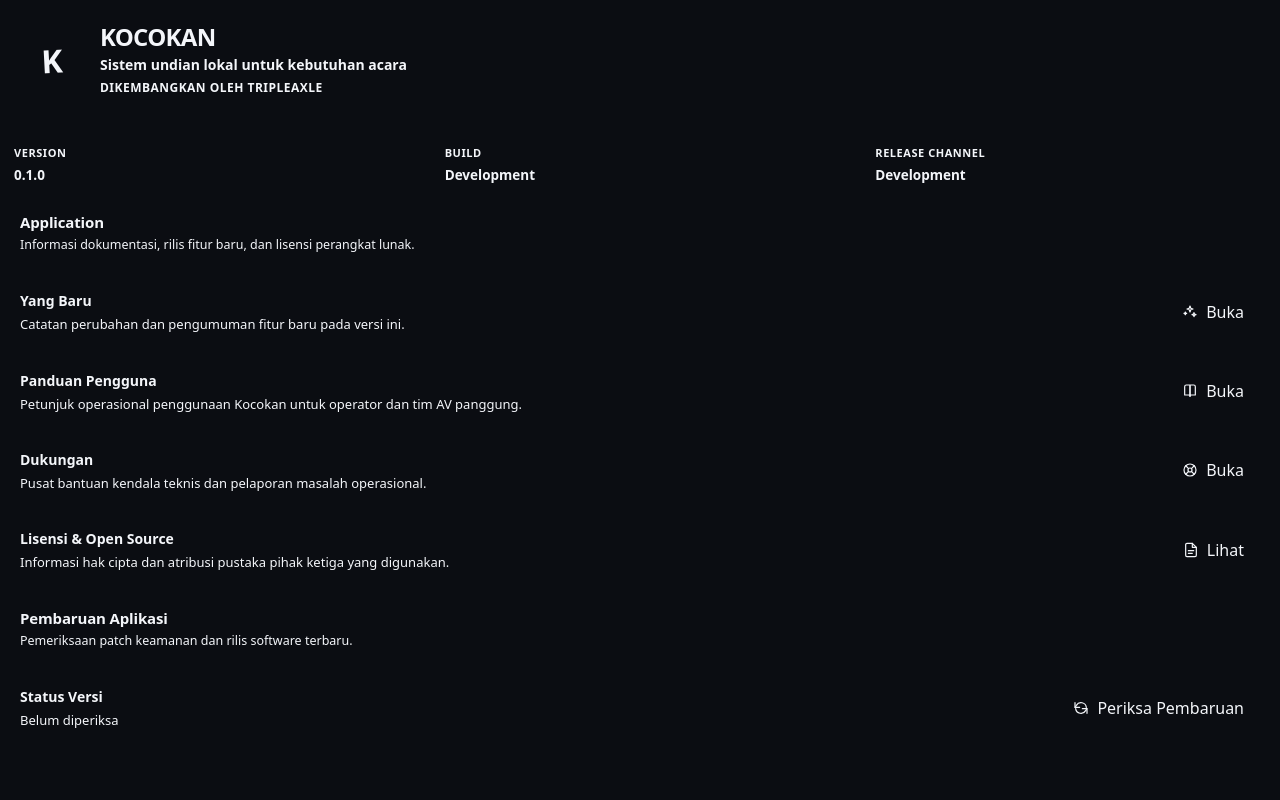
Test: AboutTab update checker › shows update-available state without downloading anything
Click the button "Periksa Pembaruan".
click(1159, 708)  # box [1057,688,1260,728]
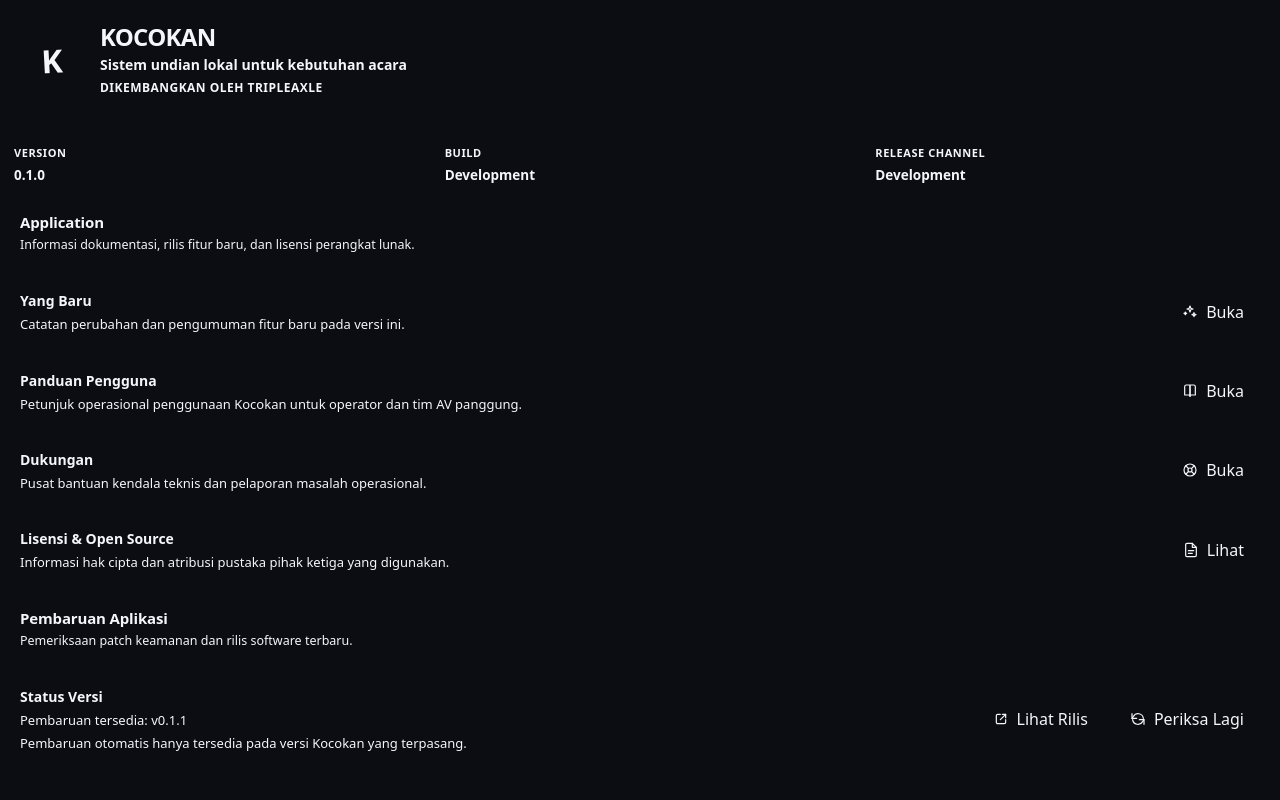
Check: the button "Periksa Lagi" is enabled, box [1114,699,1260,739]
Check: the text "Pembaruan tersedia: v0.1.1" is shown, box [20,711,187,729]
Check: the button "Lihat Rilis" is enabled, box [977,699,1104,739]
